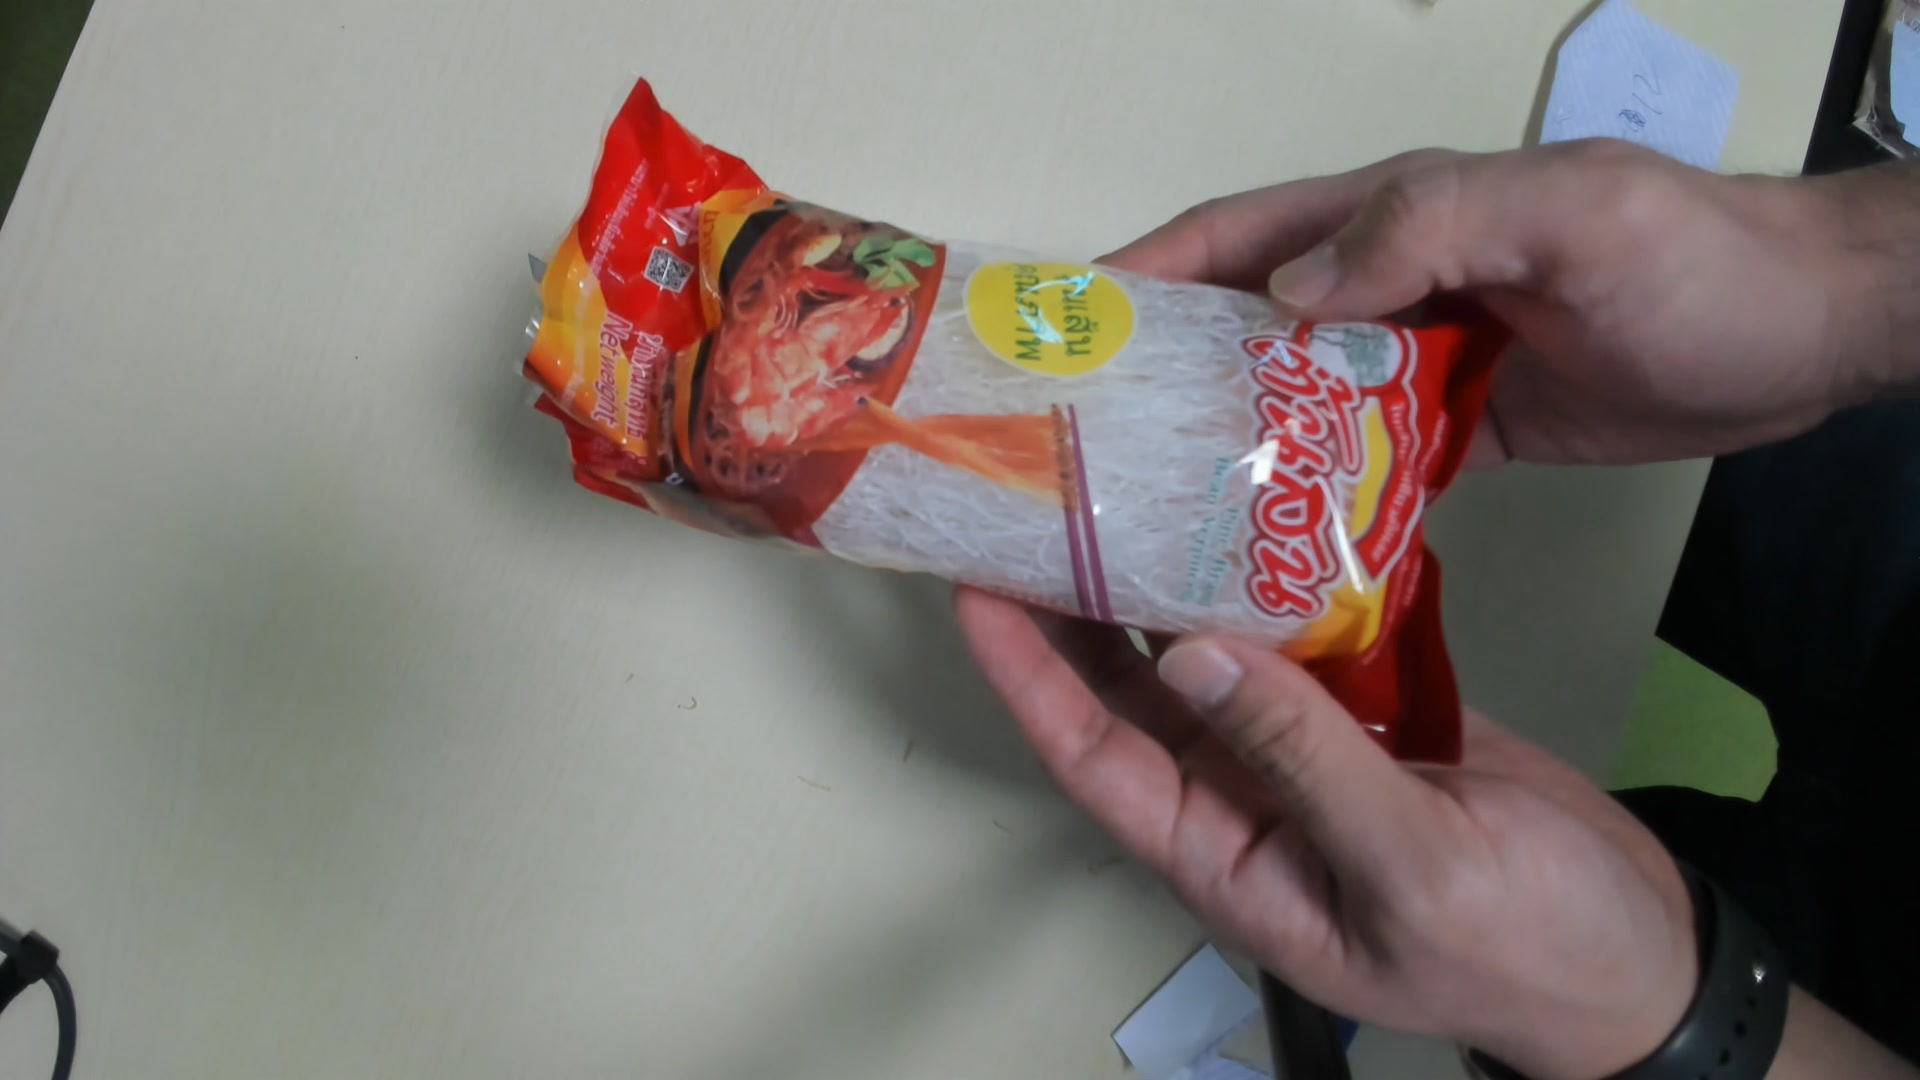BeeHoonVermicelli_0-99g_Halal_NonHealthy: (527, 84, 1503, 764)
